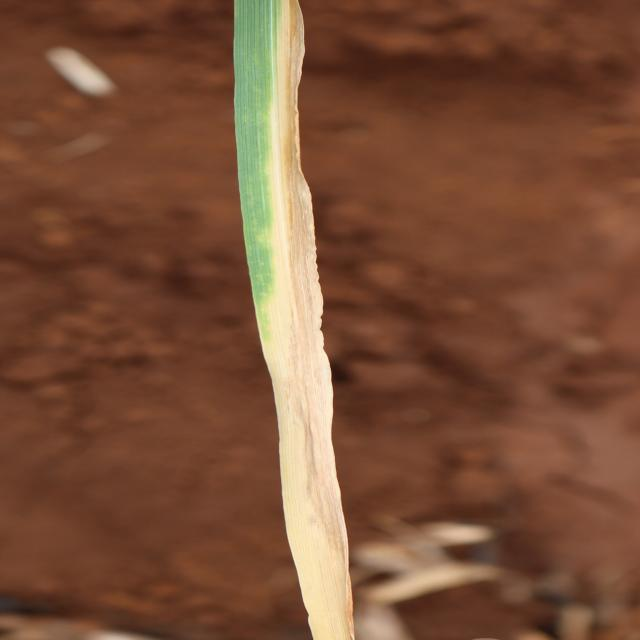Septoria: (231, 0, 356, 638)
